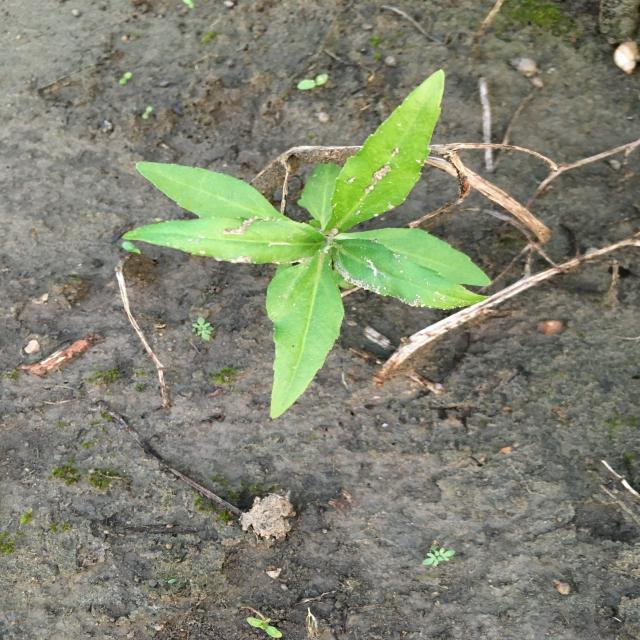Eclipta: (118, 67, 495, 420)
